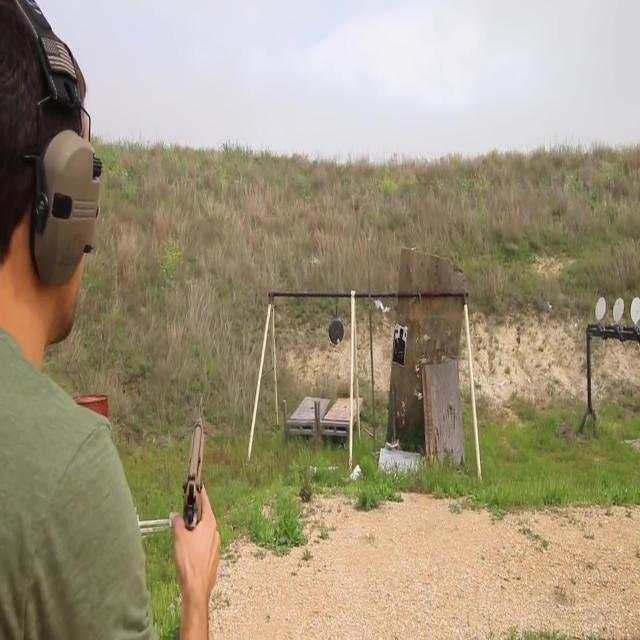Weapon: (163, 403, 240, 538)
